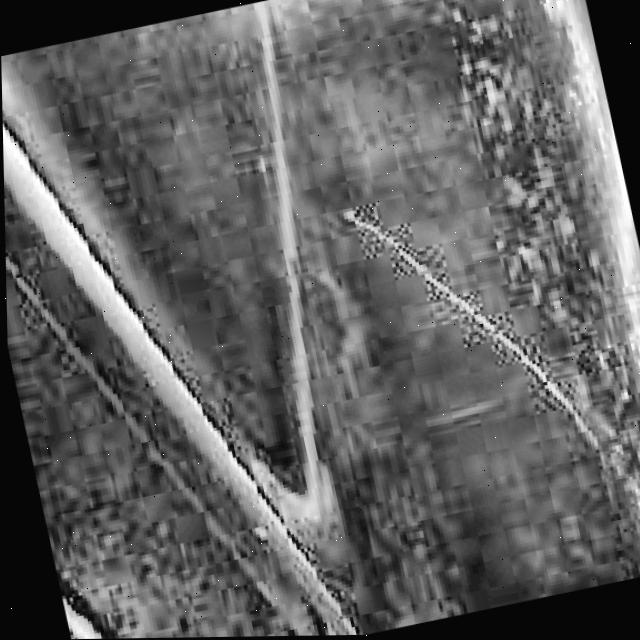door_scratch: (341, 167, 605, 483)
